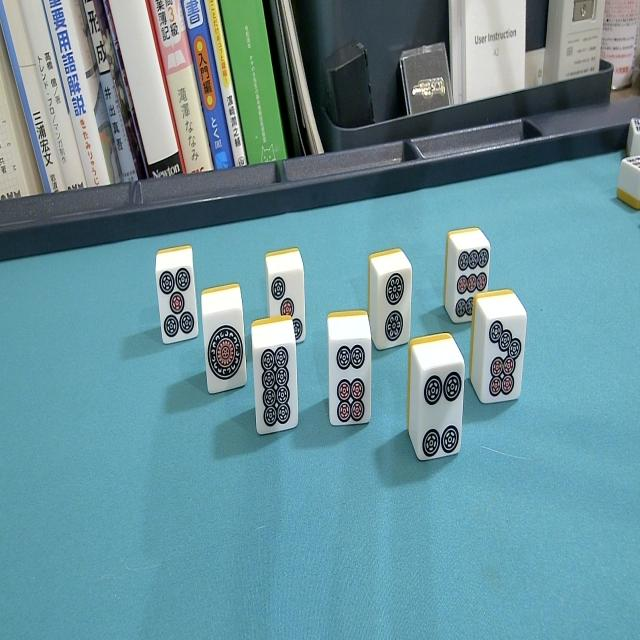1_pin: (200, 283, 248, 401)
2_pin: (364, 248, 414, 358)
3_pin: (264, 248, 309, 348)
4_pin: (405, 332, 465, 472)
5_pin: (154, 243, 201, 351)
6_pin: (326, 308, 376, 438)
7_pin: (469, 286, 527, 414)
8_pin: (249, 314, 303, 439)
9_pin: (440, 224, 492, 326)
